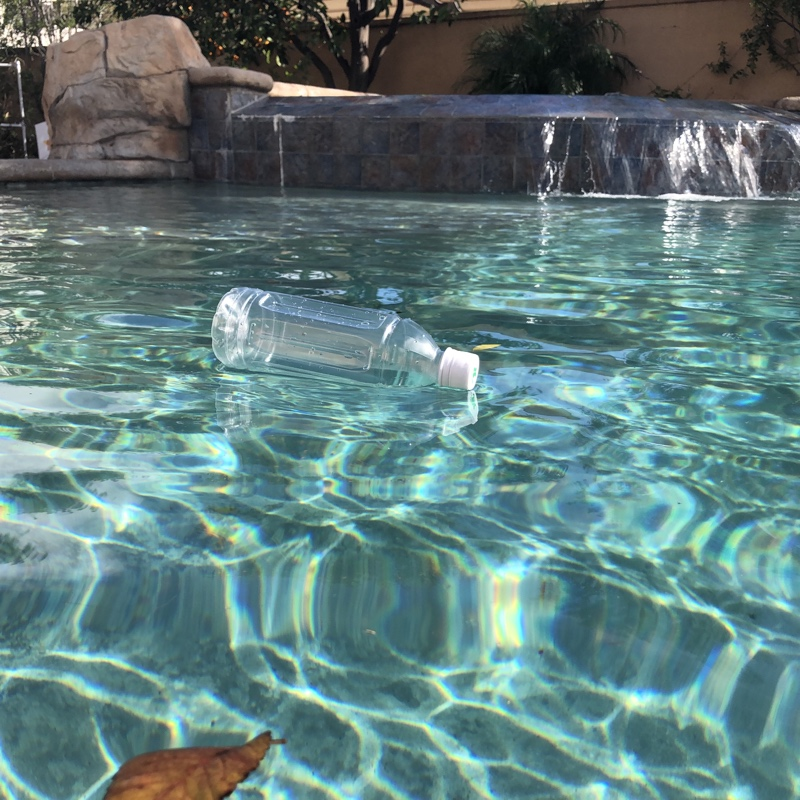Plastic Bottle: (208, 278, 483, 408)
